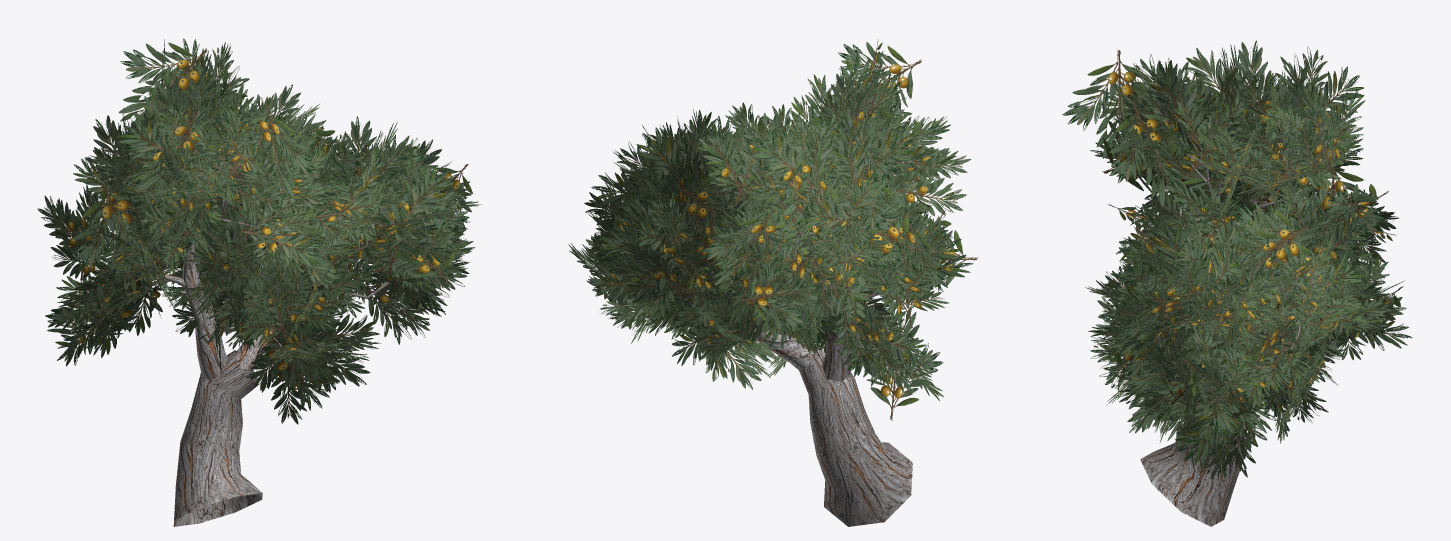
File: nature-white-olive-sunleaf_v2.glb
The picture shows the model from 3 angles, left to right: view 1: azimuth 30°, elevation 25°; view 2: azimuth 150°, elevation 25°; view 3: azimuth 270°, elevation 25°; orthographic projection. The views are drawn at different scales.
Visible parts, largest first — view 1: nature-white-olive-sunleaf; view 2: nature-white-olive-sunleaf; view 3: nature-white-olive-sunleaf.
Part boxes in pixels (x1,y1,x2,y2): nature-white-olive-sunleaf: (37, 38, 481, 526); nature-white-olive-sunleaf: (568, 39, 978, 526); nature-white-olive-sunleaf: (1062, 40, 1411, 526).
Size of the model in its own units: 5.5 by 5.67 by 4.13.
2 materials, 2 textured.
